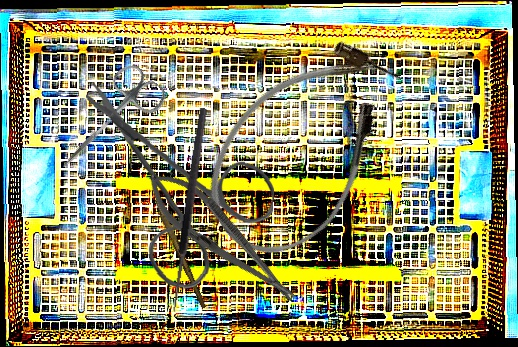Cannula: (177, 12, 429, 283)
Hook Surgical: (169, 107, 219, 315)
Iris Scissors: (75, 81, 280, 294), (45, 58, 171, 188)
Needle Holder: (135, 158, 308, 318)
Scalpel Handle: (151, 198, 209, 310)
